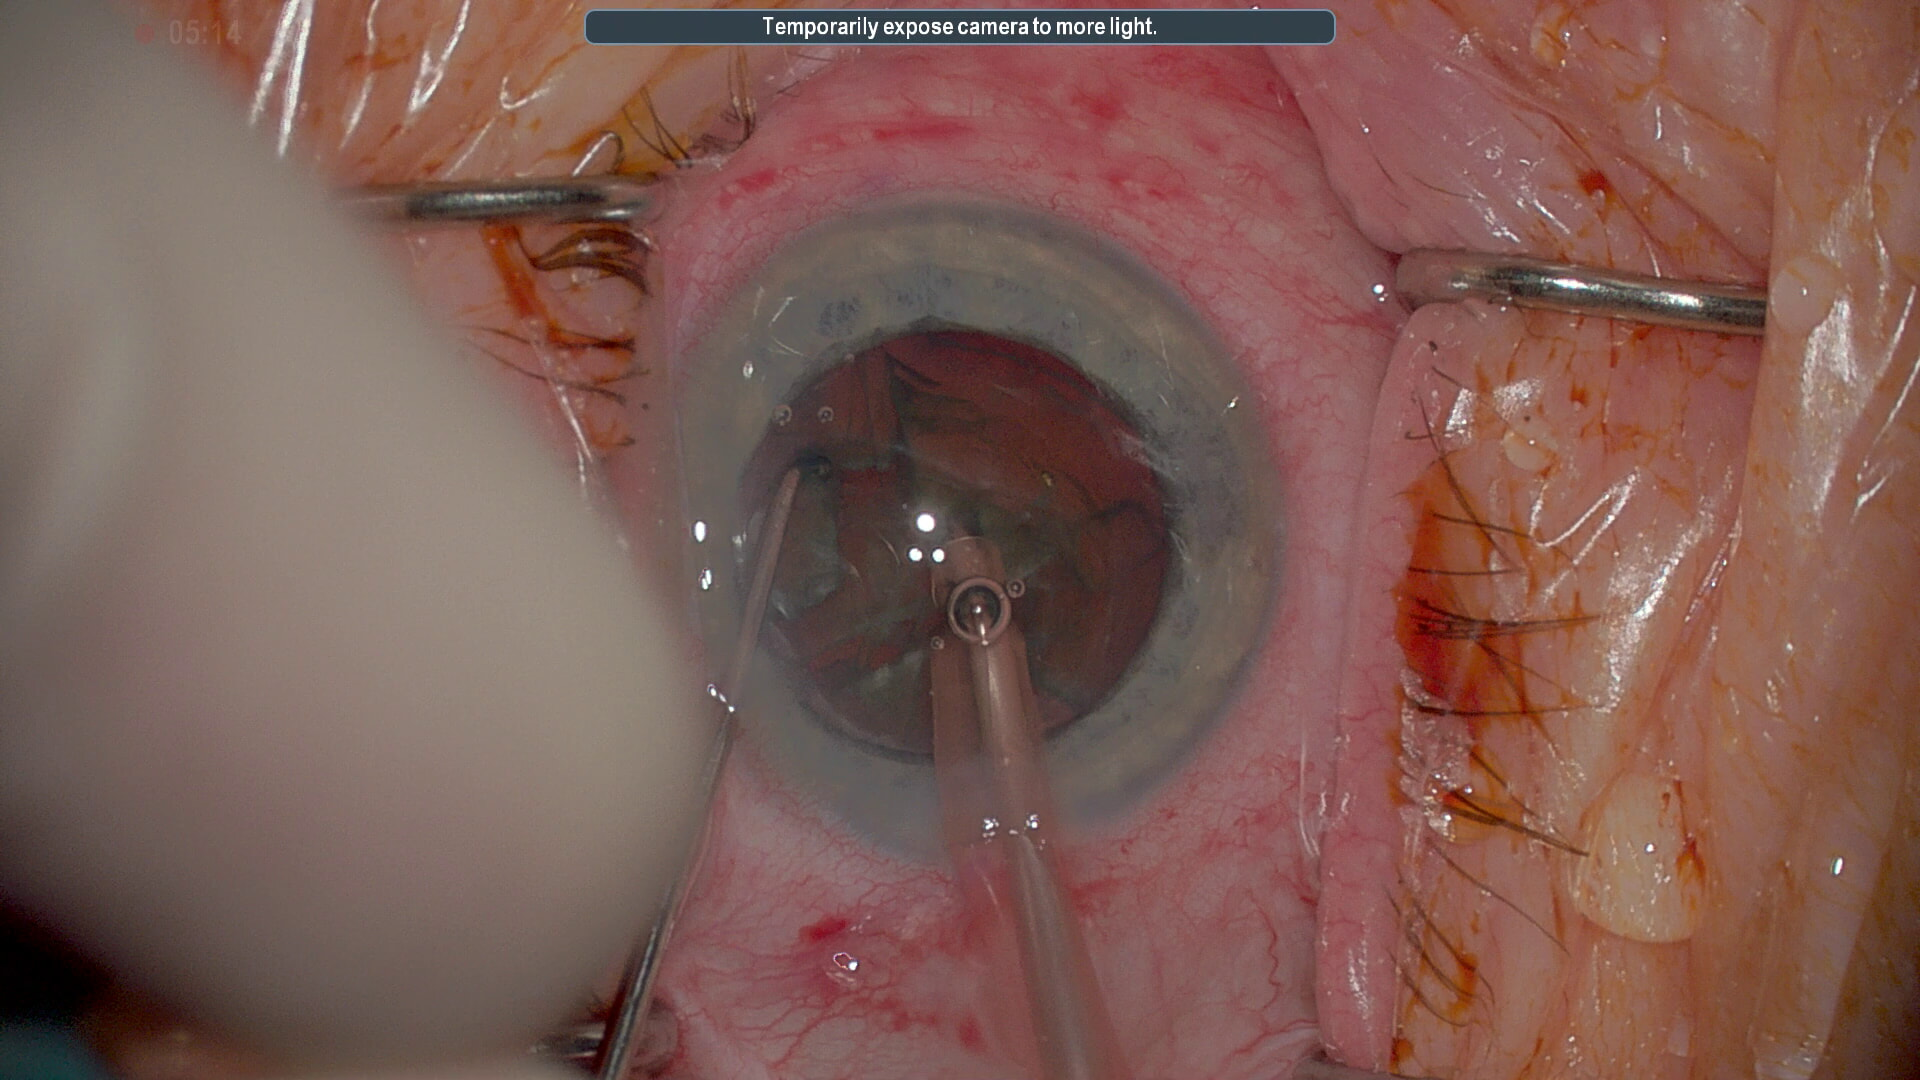iris: (674, 212, 1277, 843)
pupil: (737, 331, 1174, 753)
